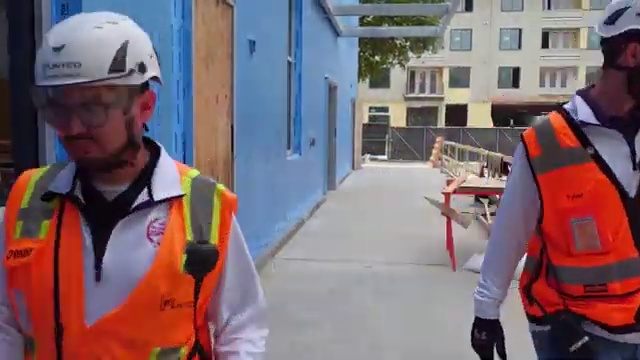helmet: (31, 8, 178, 92)
jacket: (1, 158, 260, 360)
